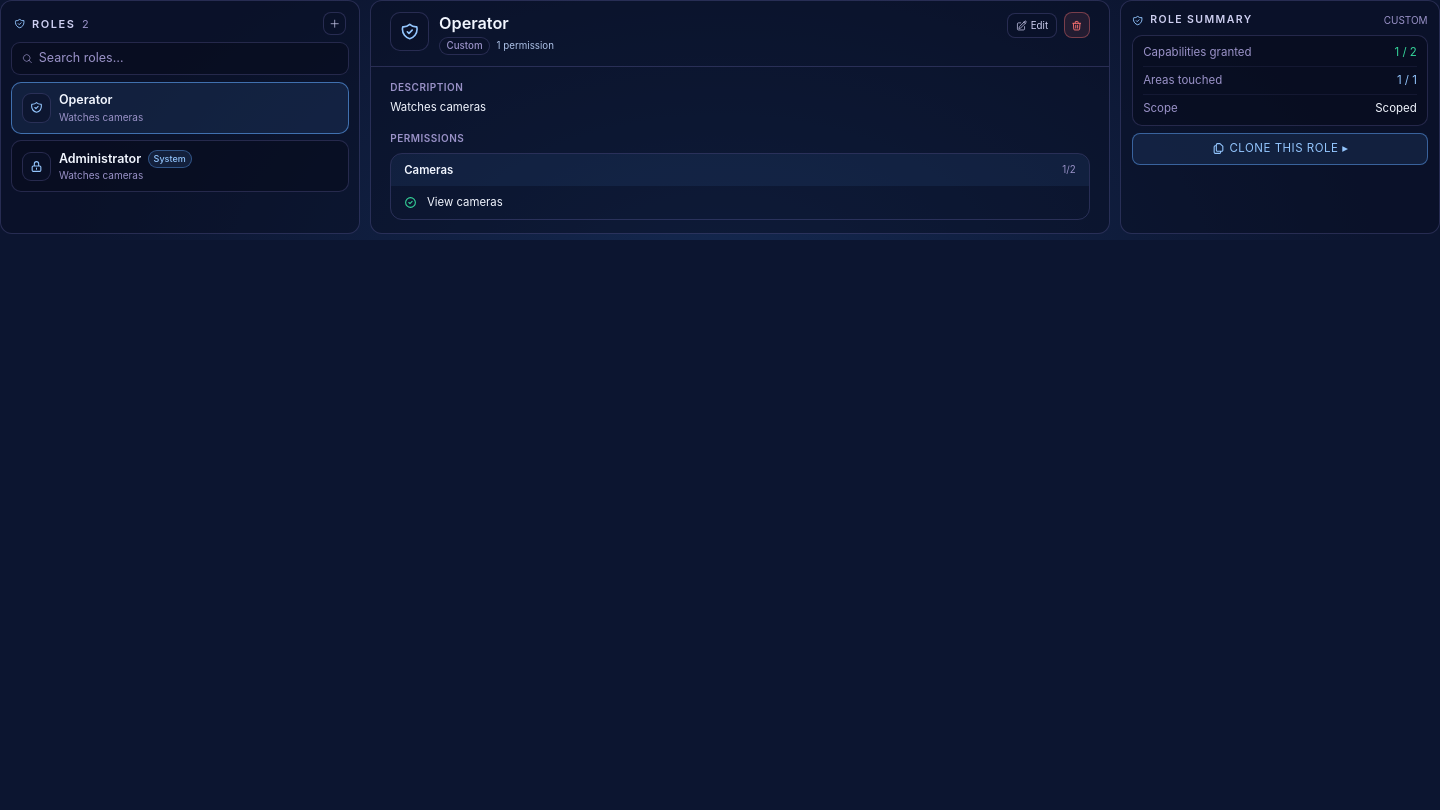
Test: the role form › refuses to create a nameless role before the network sees it
Click the button named "new role": (335,24) x1=323 y1=12 x2=346 y2=35
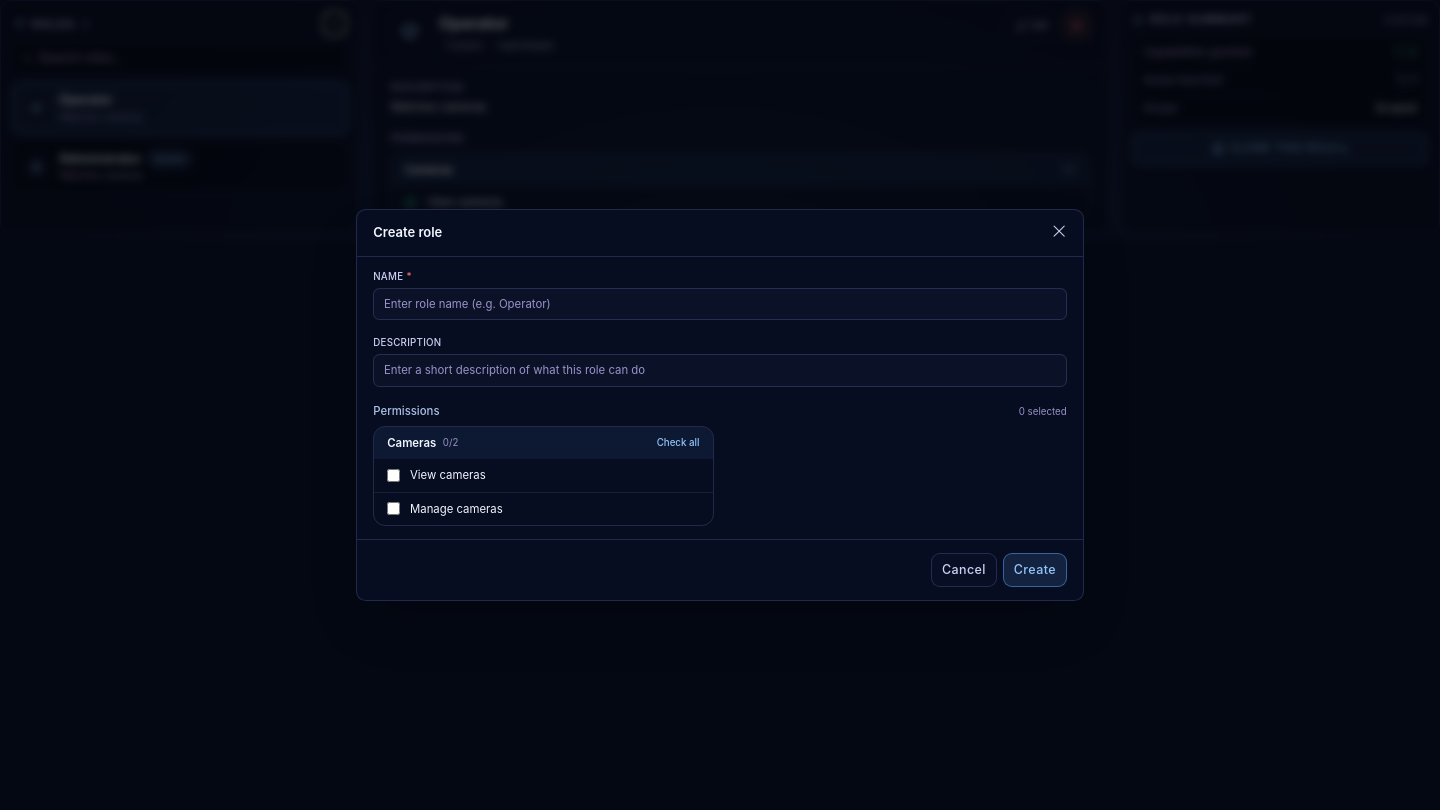
Click the button "Create": (1035,570) x1=1003 y1=553 x2=1067 y2=587
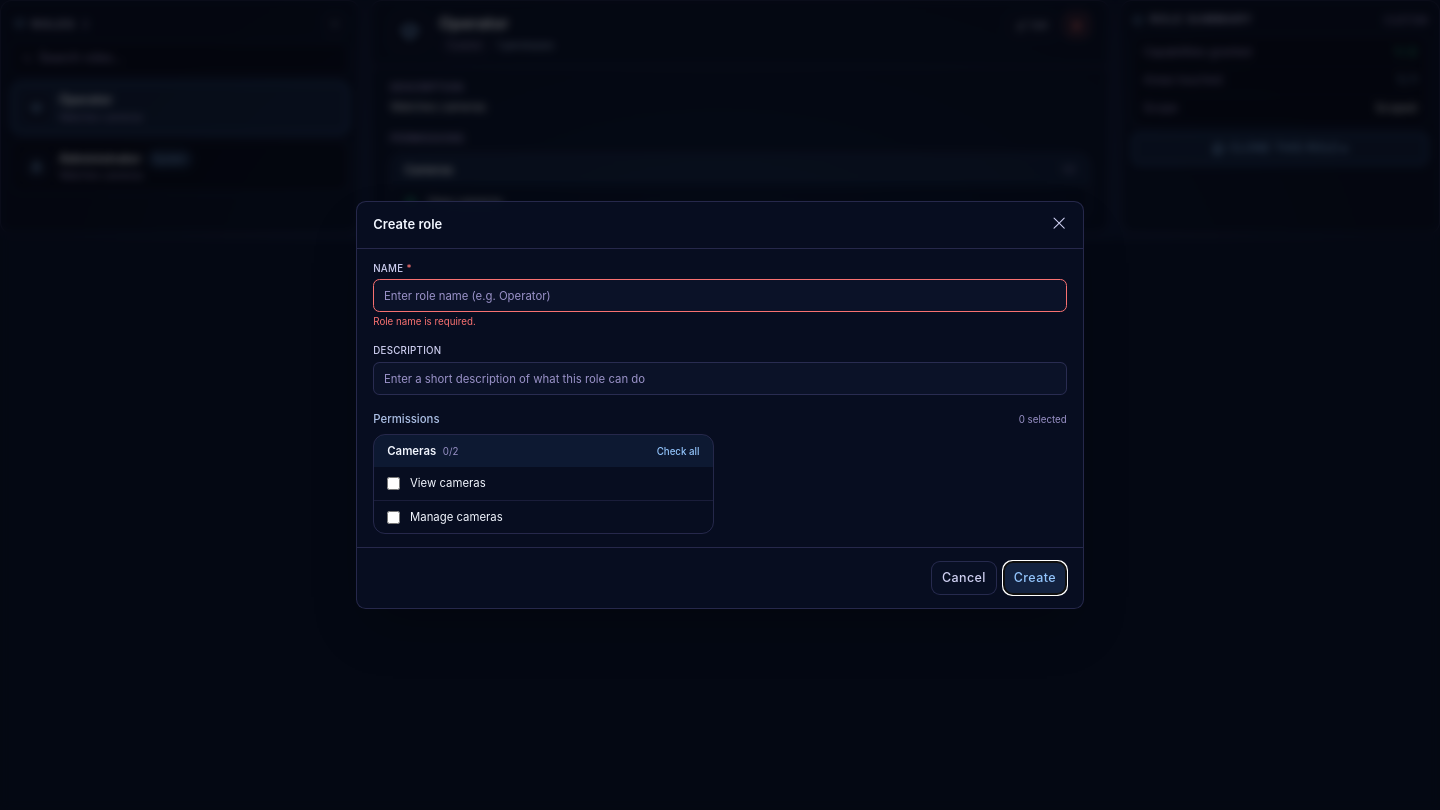
Check: the text "Role name is required." is shown, box x1=373 y1=316 x2=476 y2=327
